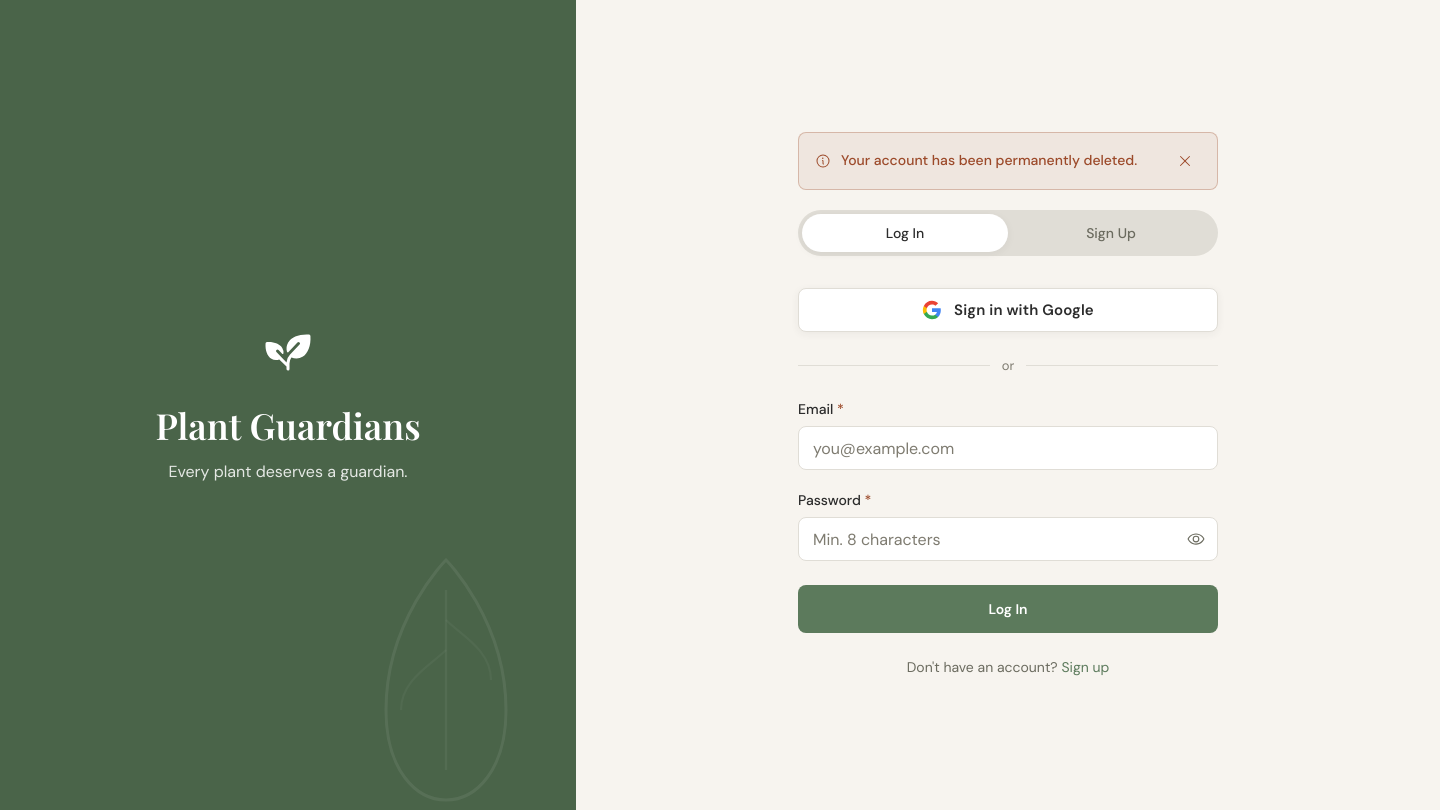
Test: LoginPage › dismisses deletion banner on × click
Check: the text "Your account has been permanently deleted." is shown, box [841,150,1159,171]
Click the button named "Dismiss" at [1185, 161], box [1169,145,1201,177]
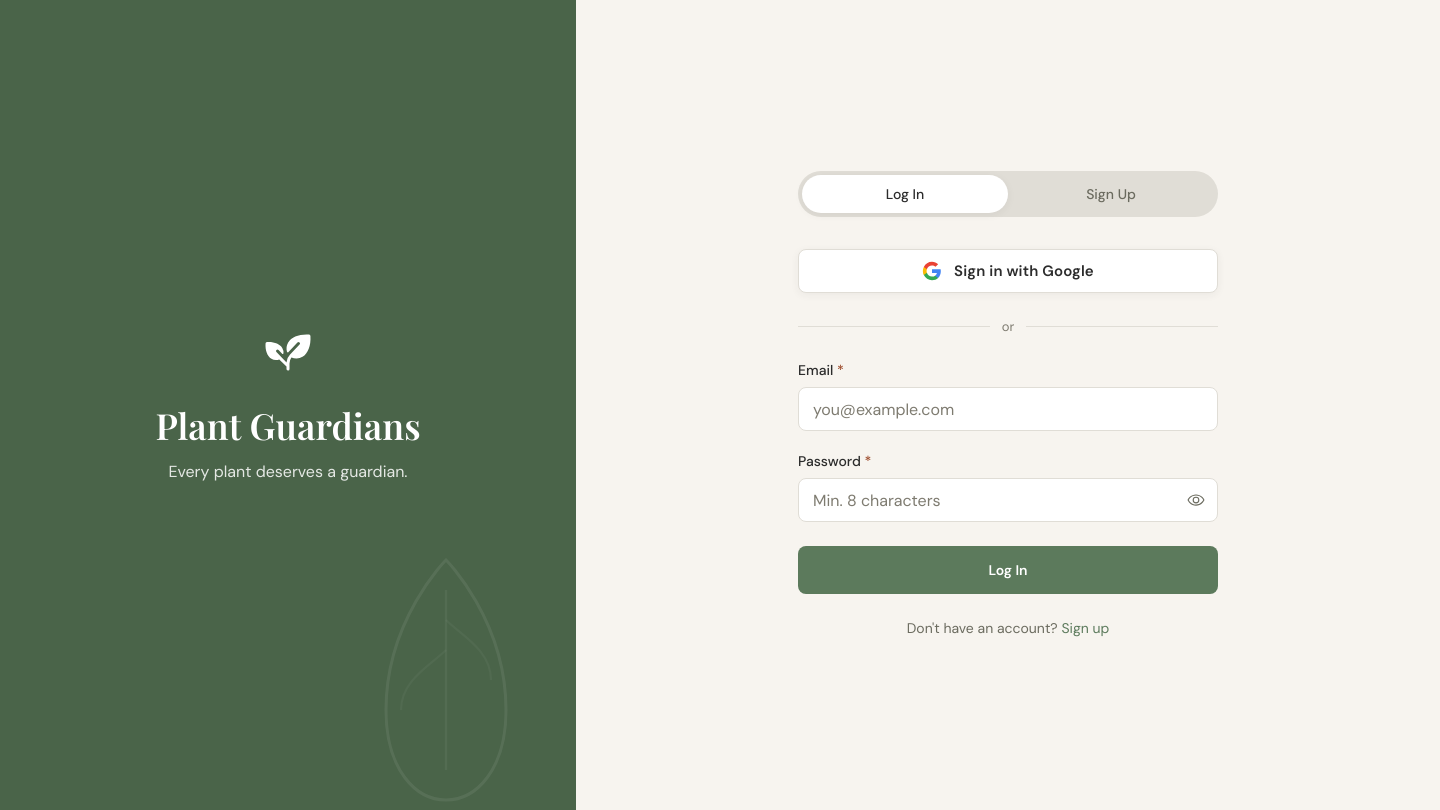
Check: the text "Your account has been permanently deleted." is gone
